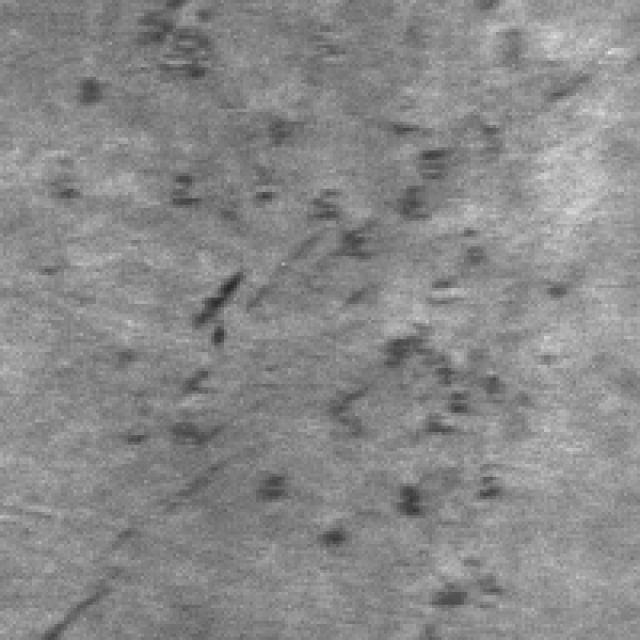rolled-in_scale: (140, 7, 538, 614), (99, 0, 234, 141)
